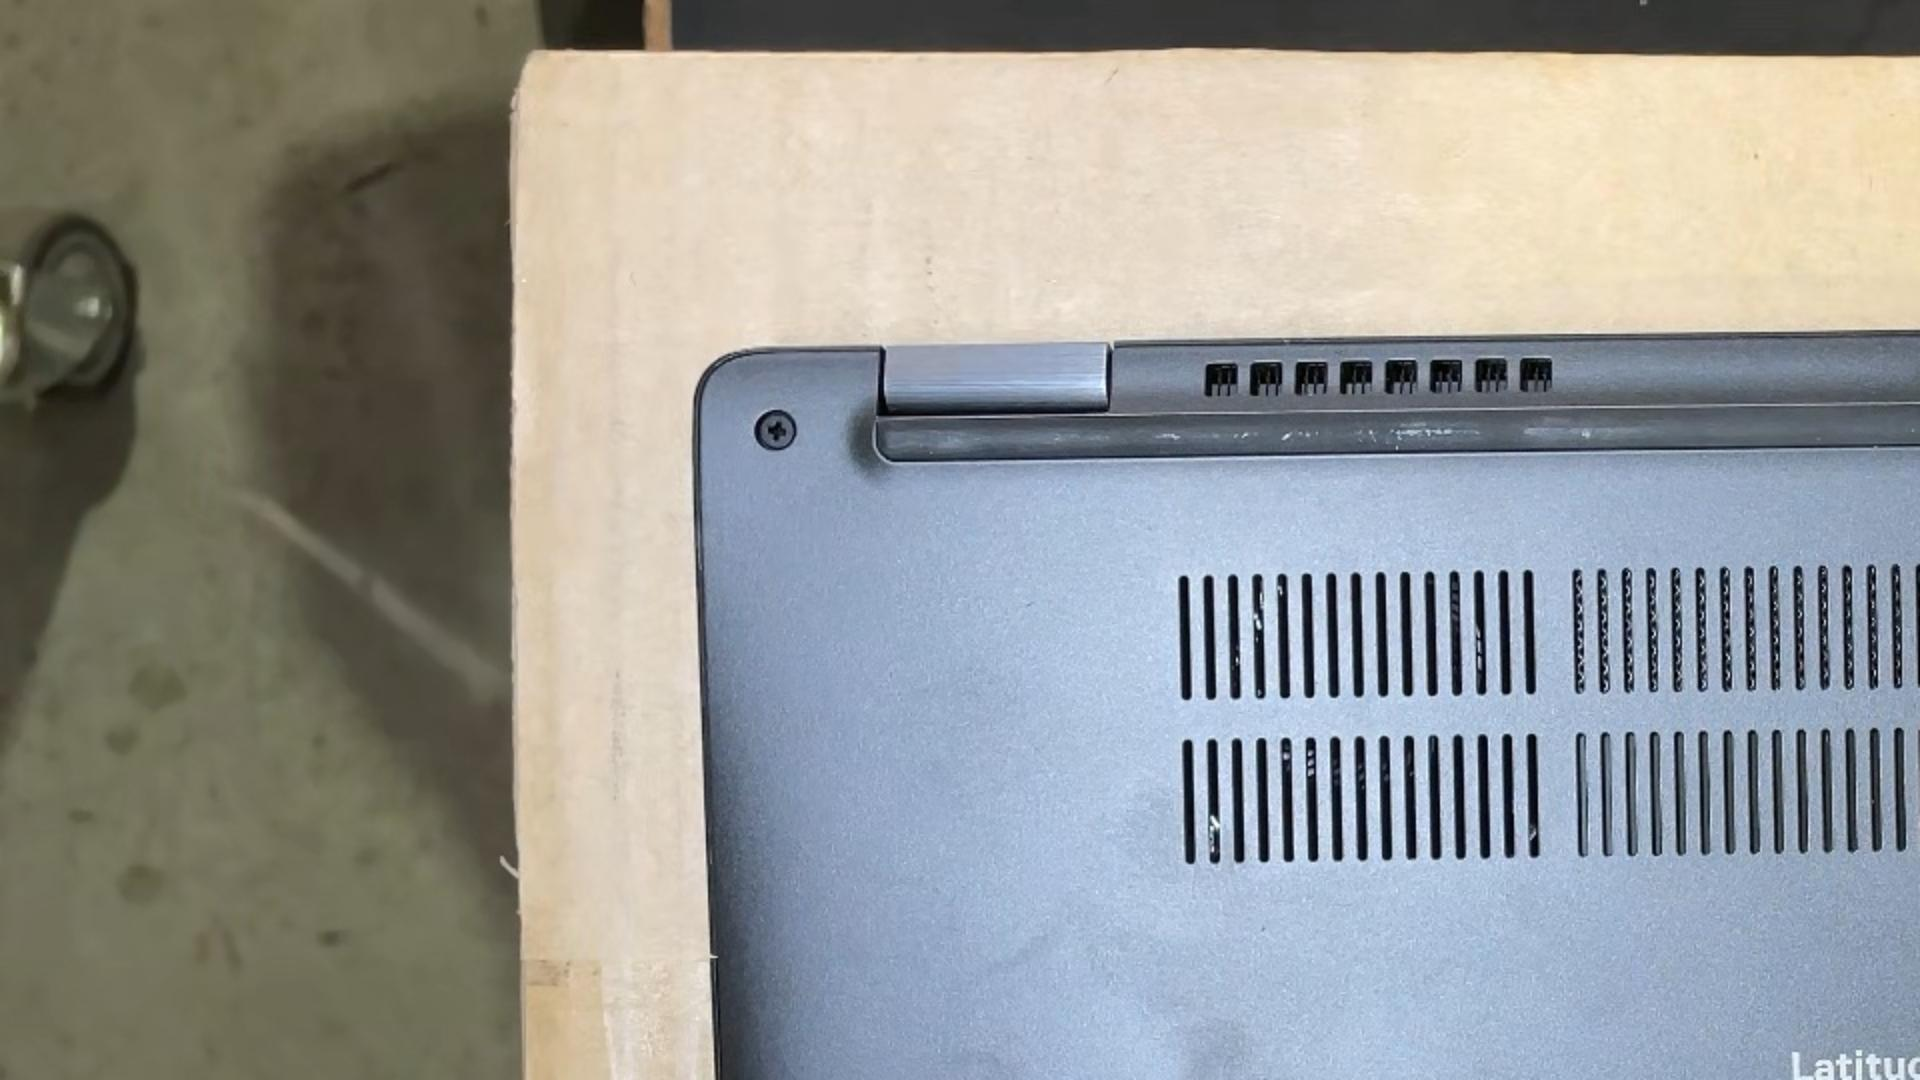scratches: (1154, 434, 1182, 440), (1280, 431, 1294, 442)
